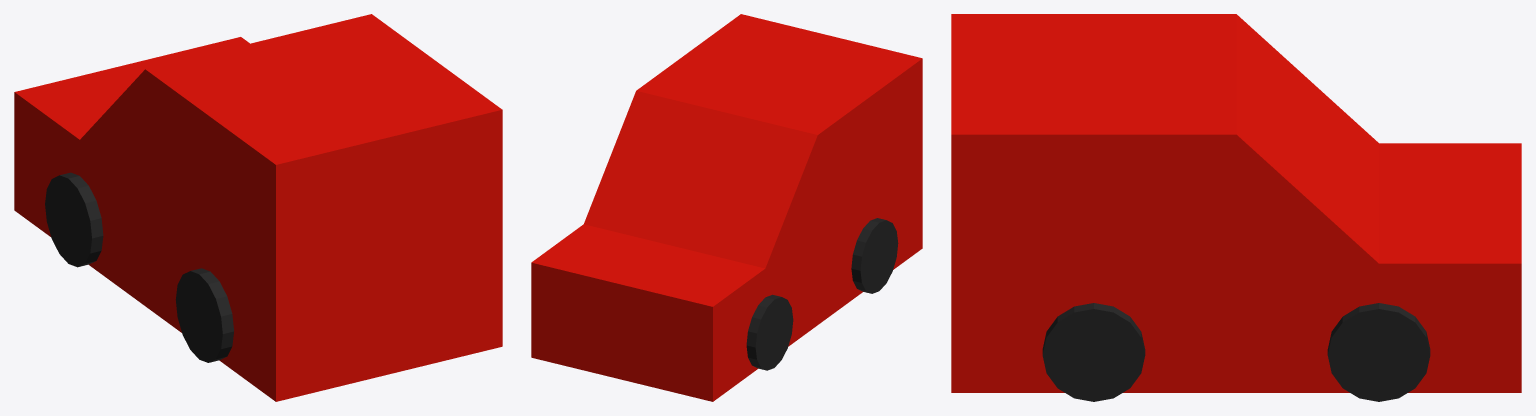
Rendered from MainCar.fbx.
The picture shows the model from 3 angles, left to right: view 1: azimuth 30°, elevation 25°; view 2: azimuth 150°, elevation 25°; view 3: azimuth 270°, elevation 25°; orthographic projection. The views are drawn at different scales.
Parts seen in each view (by area): view 1: MainCar; view 2: MainCar; view 3: MainCar.
Part boxes in pixels (x1,y1,x2,y2): MainCar: (14, 14, 502, 401); MainCar: (531, 14, 922, 401); MainCar: (951, 14, 1521, 401).
Size of the model in its own units: 220 by 202 by 400.
